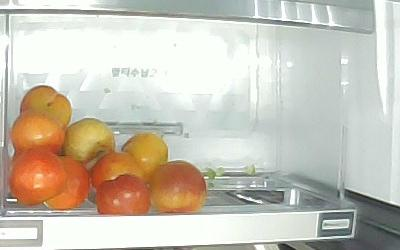prune: (8, 148, 69, 206), (150, 160, 207, 213), (64, 118, 116, 170), (10, 109, 65, 157), (44, 157, 90, 210), (96, 173, 151, 215), (20, 85, 72, 128), (92, 152, 146, 193), (121, 132, 169, 174)
